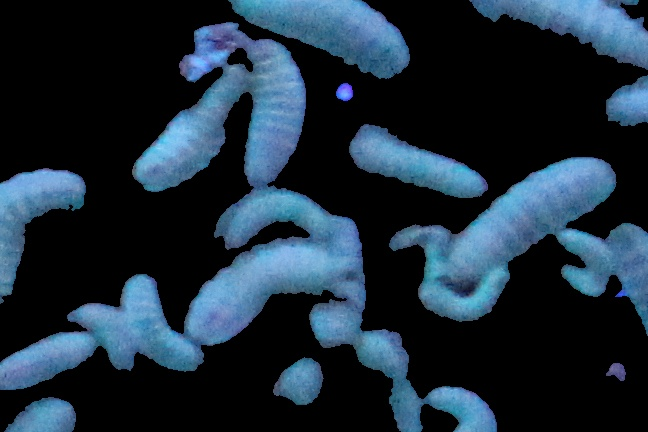larvae: (460, 156, 617, 269), (186, 244, 343, 340), (232, 1, 416, 71), (473, 1, 648, 69), (132, 77, 231, 195), (354, 124, 483, 203), (240, 38, 305, 187), (1, 169, 76, 297), (122, 278, 198, 369), (357, 329, 423, 432), (212, 190, 332, 243), (1, 330, 102, 389), (71, 296, 139, 372), (420, 272, 507, 318), (554, 235, 613, 294), (429, 387, 497, 432), (10, 395, 82, 430)
